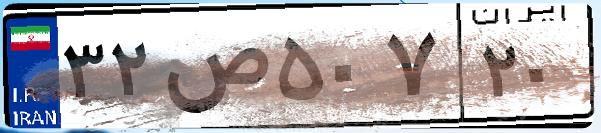0: (330, 28, 385, 110), (525, 38, 570, 115)
2: (475, 38, 525, 113), (110, 28, 158, 98)
3: (57, 26, 110, 100)
5: (270, 28, 330, 110)
7: (385, 28, 445, 110)
ص: (158, 20, 270, 120)
